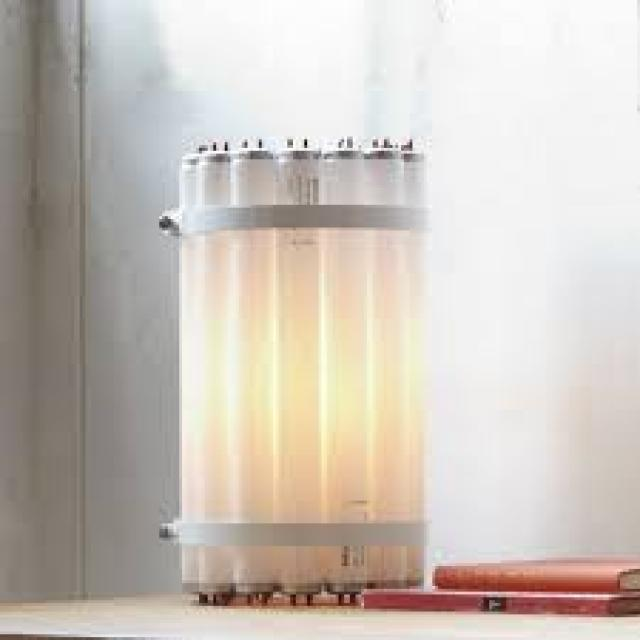tubelight_on: (235, 147, 279, 617), (358, 138, 402, 590), (322, 139, 364, 602), (284, 140, 324, 604), (196, 152, 232, 598), (180, 152, 209, 593), (400, 142, 424, 587)
